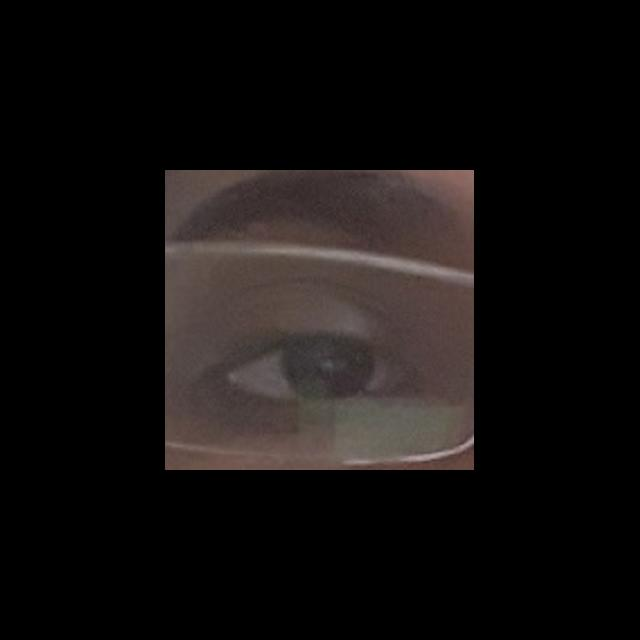eye: (228, 335, 402, 405)
iris: (279, 337, 373, 399)
